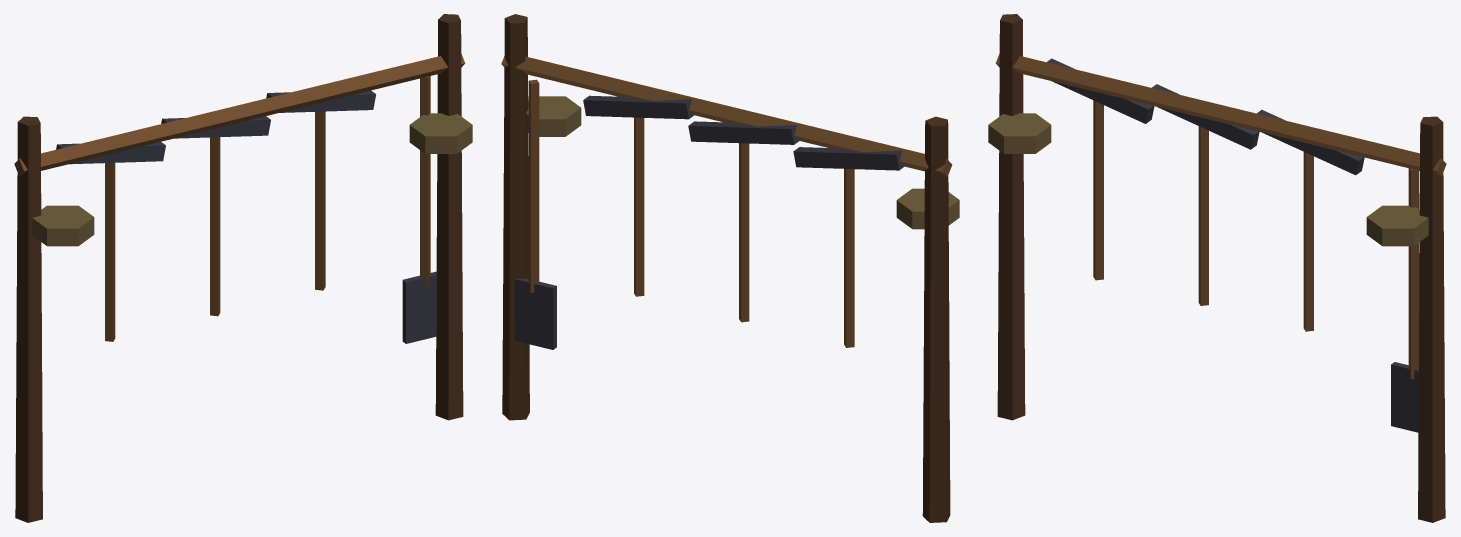
Rendered from a2m_pick_rack.glb.
3 views of the same model, side by side, from view 1: azimuth 30°, elevation 25°; view 2: azimuth 150°, elevation 25°; view 3: azimuth 330°, elevation 25° (orthographic).
Parts seen in each view (by area): view 1: a2m_pick_rack; view 2: a2m_pick_rack; view 3: a2m_pick_rack.
Part boxes in pixels (box(x1,y1,x2,y2)): a2m_pick_rack: box(14, 14, 472, 522); a2m_pick_rack: box(501, 14, 959, 522); a2m_pick_rack: box(988, 14, 1446, 522).
Bounding box in the file's own units: 2.11 × 1.8 × 0.29.
